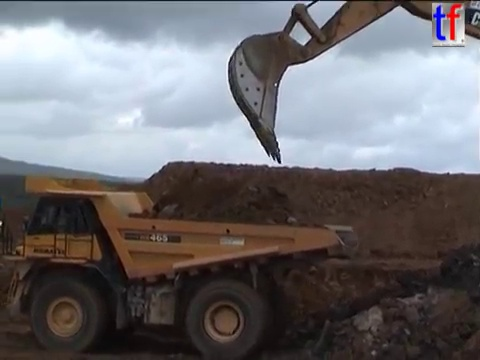excavator: (223, 1, 480, 168)
truck: (1, 170, 361, 360)
